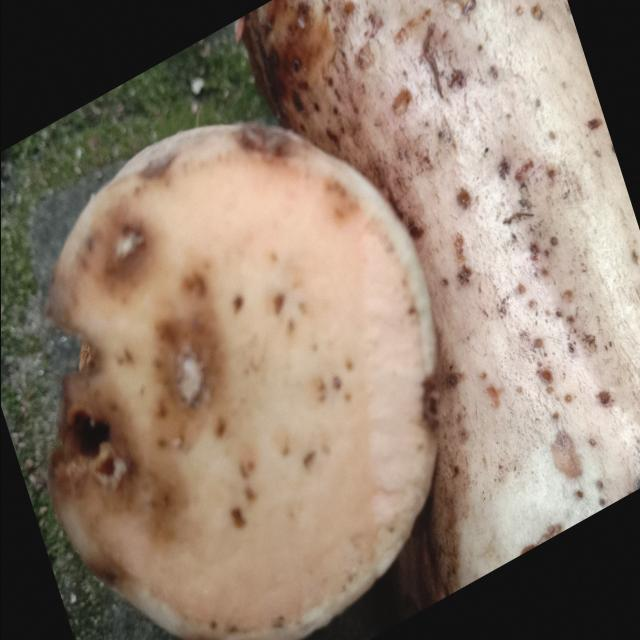Sick Sweet Potato_Tuber Rot: (45, 123, 435, 638)
